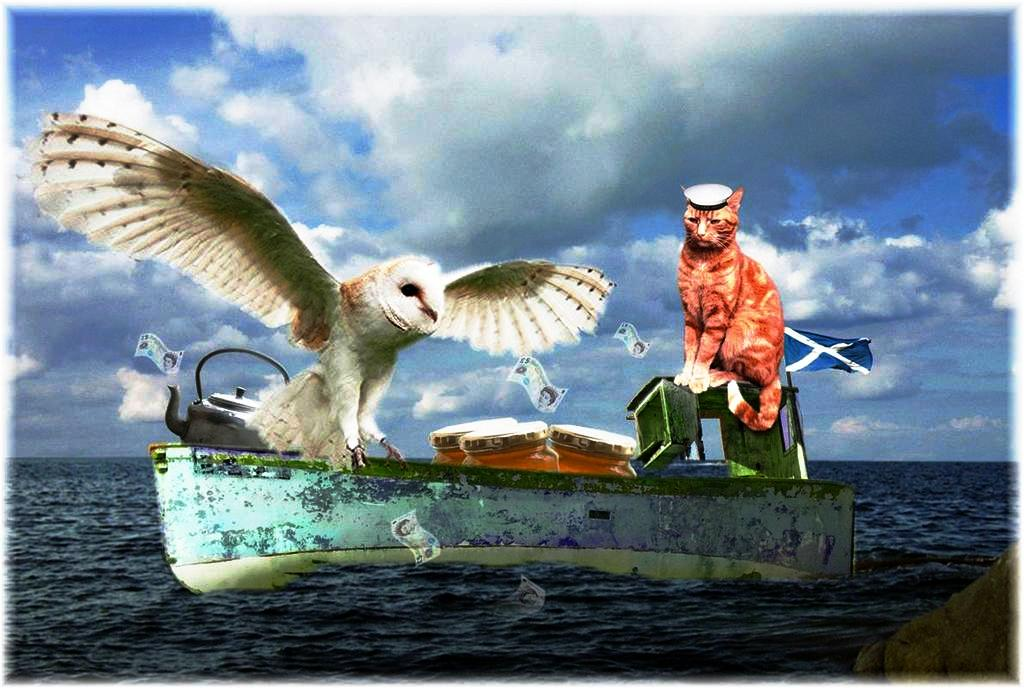Owl: (24, 107, 615, 475)
